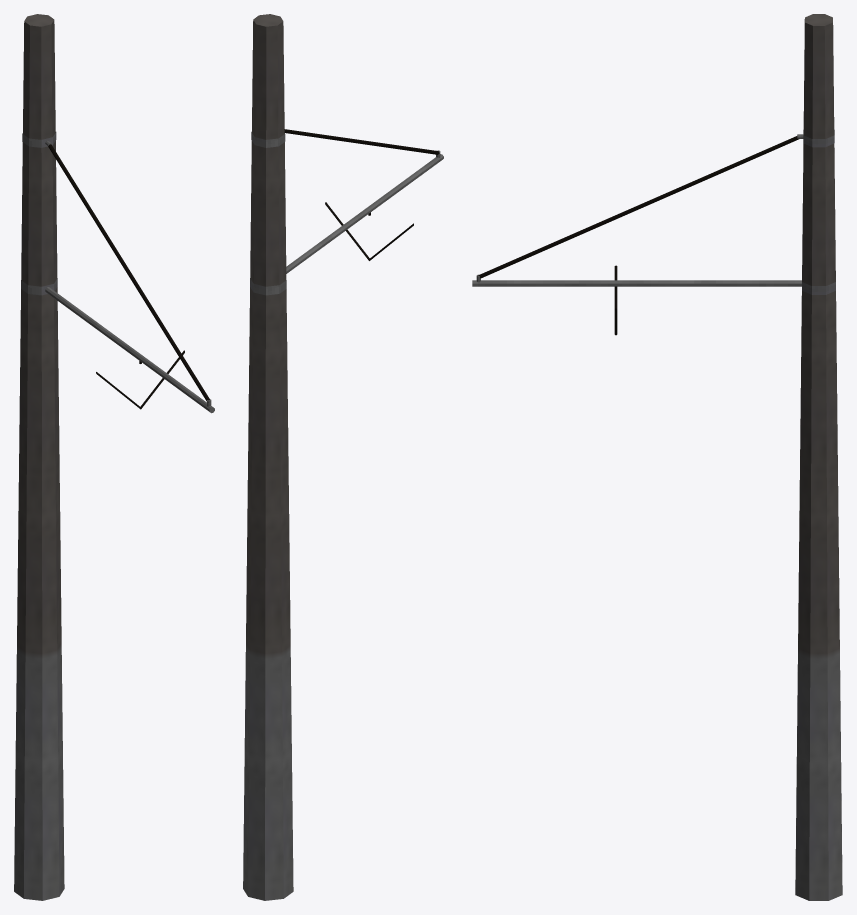
The model's file is pole_s_d.obj.
3 renders of one model, left to right at view 1: azimuth 30°, elevation 25°; view 2: azimuth 150°, elevation 25°; view 3: azimuth 270°, elevation 25°, orthographic.
Parts seen in each view (by area): view 1: RAIL_BASE; view 2: RAIL_BASE; view 3: RAIL_BASE.
Boxes of the visible parts, left/top/right/bottom form: RAIL_BASE: left=14, top=14, right=214, bottom=900; RAIL_BASE: left=243, top=14, right=443, bottom=900; RAIL_BASE: left=472, top=14, right=842, bottom=900.
Size of the model in its own units: 1 by 9.47 by 3.65.
Materials: 2 (2 with a texture image).
